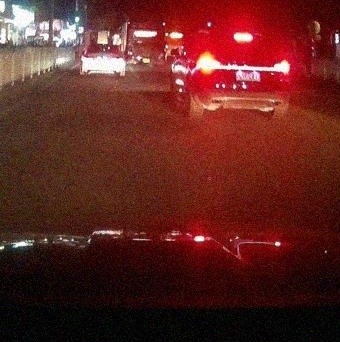L_light: (197, 57, 220, 69)
R_light: (274, 60, 289, 73)
T_light: (234, 33, 253, 41)
night-left: (196, 30, 291, 118)
